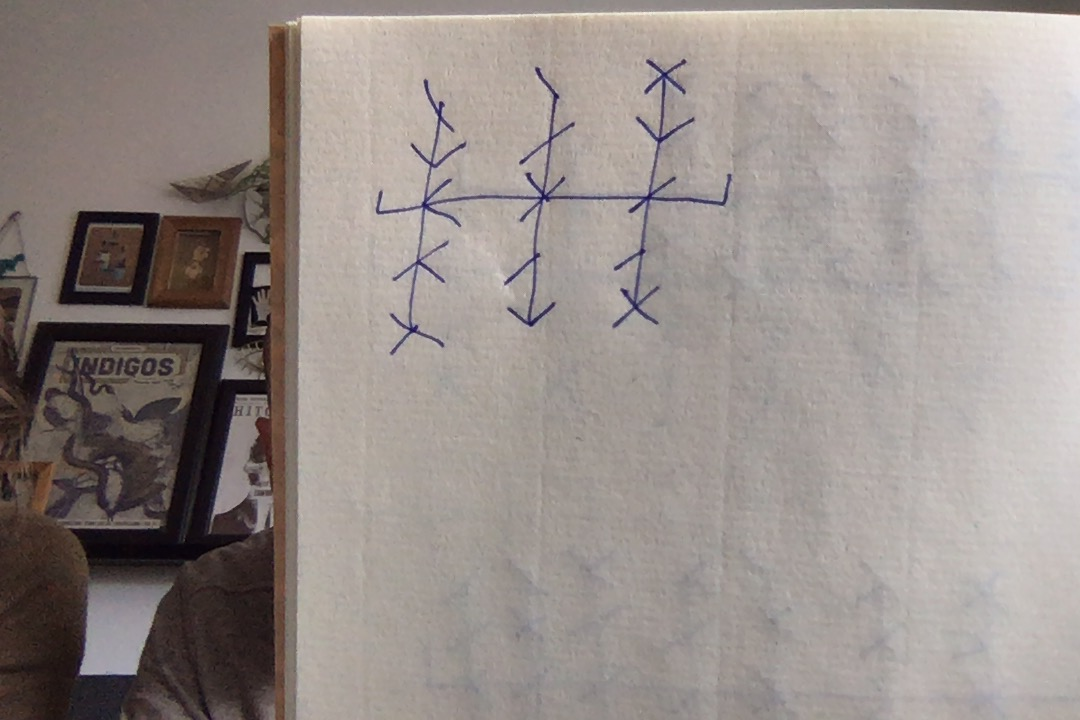Bar: (611, 58, 695, 329), (389, 78, 468, 357), (503, 67, 576, 328)
Barcode: (375, 58, 732, 357)
End: (677, 174, 733, 206)
Start: (375, 189, 421, 215)
